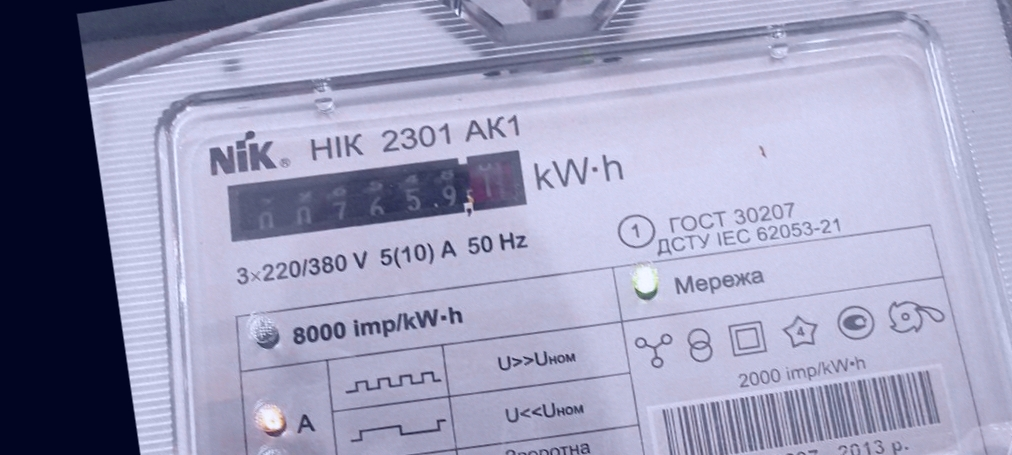0: (255, 207, 276, 236), (293, 203, 315, 230)
1: (479, 169, 497, 203)
5: (400, 185, 426, 215)
6: (365, 193, 387, 220)
7: (328, 198, 352, 226)
9: (438, 182, 460, 211)
screen: (213, 131, 540, 266)
